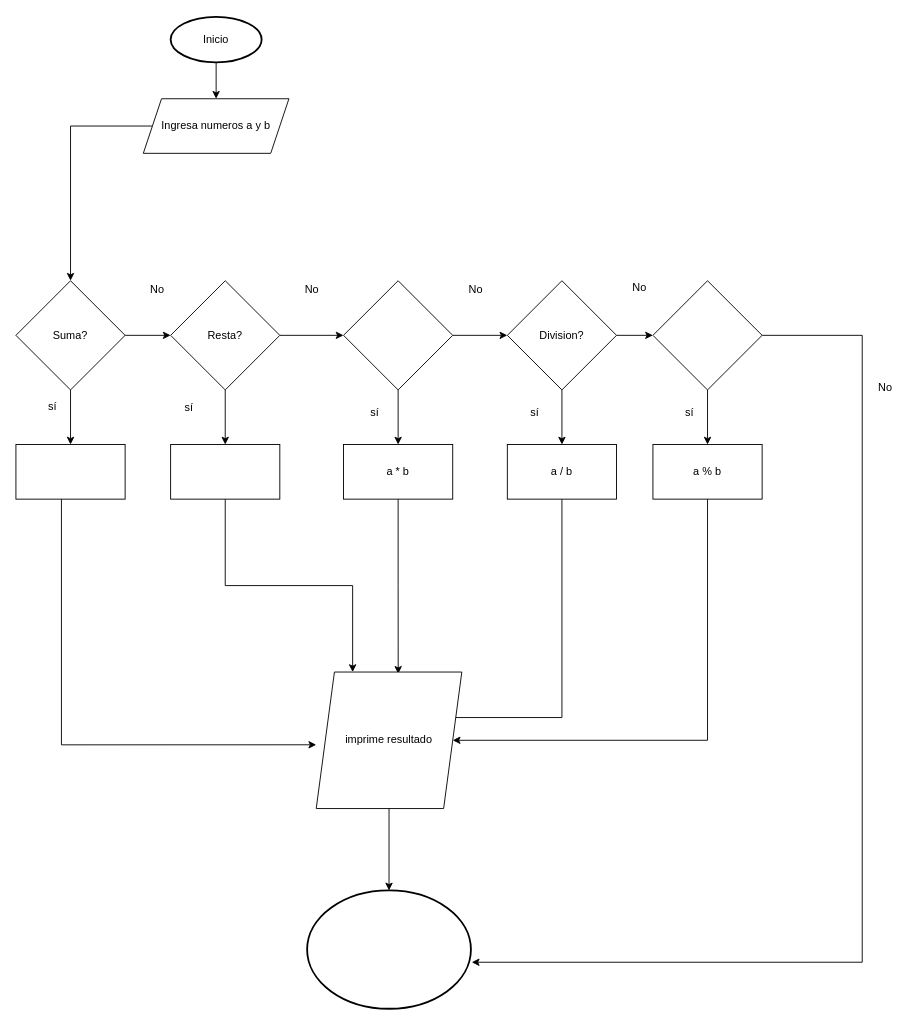
Image size: 915x1025. Some labels were removed from this diagram. The centre of each missing label's shape, as x and y in pixels:
a + b: pixel 70 471
a - b: pixel 225 471
Fin: pixel 388 949
Modulo?: pixel 707 335
Multiplicacion?: pixel 398 335
